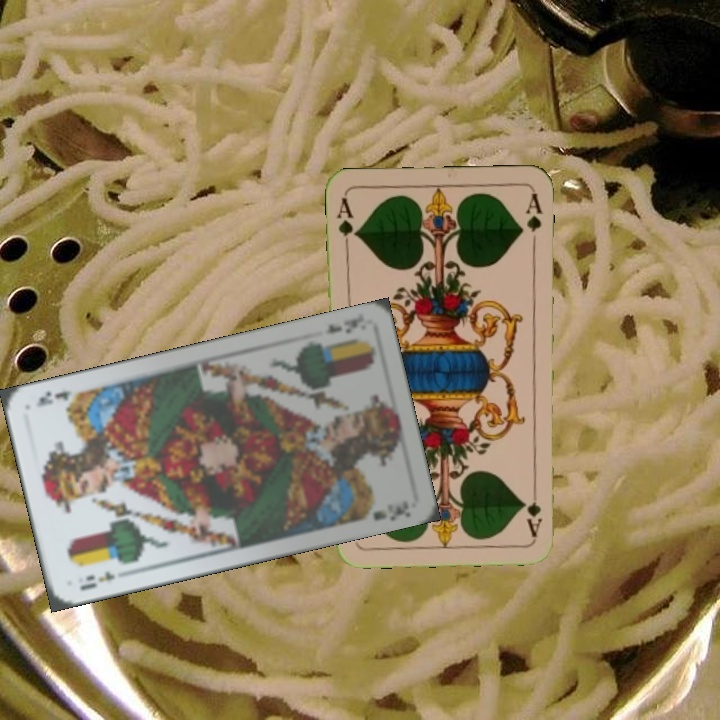EK: (321, 311, 367, 337), (75, 566, 117, 593)
GA: (332, 193, 360, 252), (524, 480, 545, 539)
